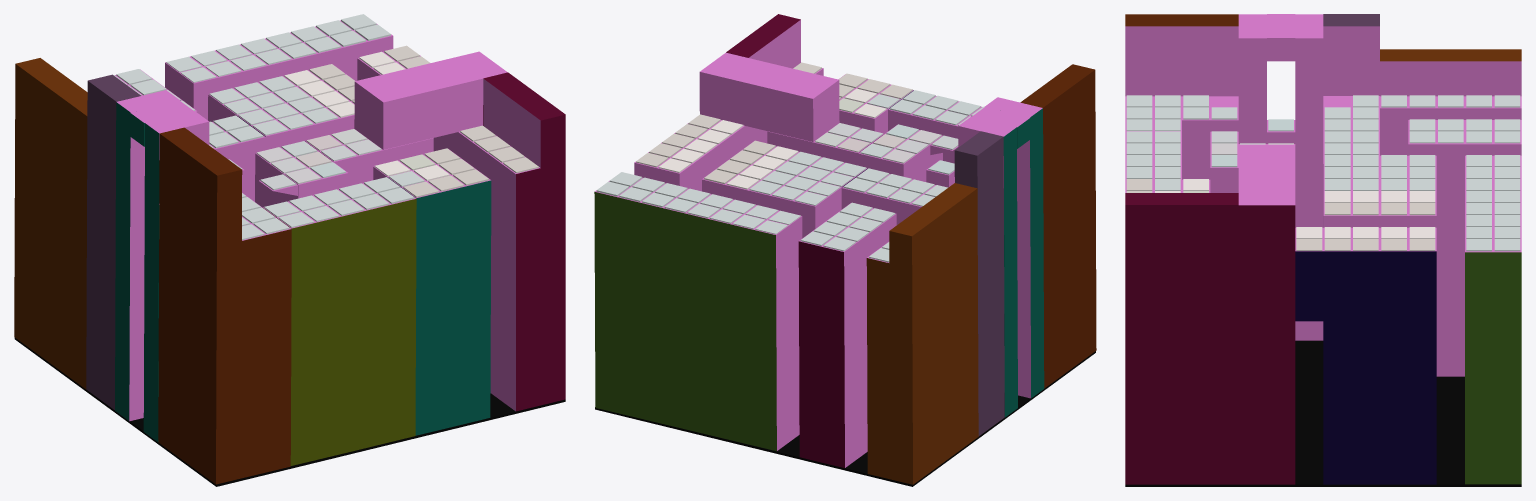
Rendered from Map 1 Concept.fbx.
3 renders of one model, left to right at view 1: azimuth 30°, elevation 25°; view 2: azimuth 150°, elevation 25°; view 3: azimuth 270°, elevation 25°, orthographic. The views are drawn at different scales.
Visible parts, largest first — view 1: Building 05, Building 04, Building 14, Building 11, Building 03, Building 08, Blocked space, Building 07, Building 06, Building 12, Building 09, Floor (+3 smaller); view 2: Building 12, Building 11, Building 05, Building 10, Building 08, Blocked space, Building 06, Building 07, Building 14, Building 09, Building 13, Floor (+5 smaller); view 3: Building 14, Building 13, Building 12, Building 05, Building 11, Floor, Building 10, Building 07, Blocked space, Building 08, Building 06, Building 09 (+4 smaller).
Boxes of the visible parts, bbox=[...] form: Building 05: bbox=[158, 127, 291, 484]; Building 04: bbox=[263, 180, 416, 465]; Building 14: bbox=[433, 72, 565, 411]; Building 11: bbox=[14, 58, 87, 389]; Building 03: bbox=[373, 149, 491, 435]; Building 08: bbox=[86, 74, 265, 409]; Blocked space: bbox=[354, 51, 507, 149]; Building 07: bbox=[115, 90, 180, 421]; Building 06: bbox=[143, 111, 209, 441]; Building 12: bbox=[165, 20, 393, 120]; Building 09: bbox=[208, 69, 354, 149]; Floor: bbox=[14, 337, 565, 486]; Building 12: bbox=[594, 178, 802, 451]; Building 11: bbox=[866, 183, 978, 484]; Building 05: bbox=[1020, 64, 1096, 388]; Building 10: bbox=[798, 203, 896, 467]; Building 08: bbox=[841, 131, 1004, 436]; Blocked space: bbox=[699, 52, 839, 141]; Building 06: bbox=[985, 97, 1044, 398]; Building 07: bbox=[958, 116, 1017, 417]; Building 14: bbox=[726, 14, 823, 147]; Building 09: bbox=[702, 142, 867, 238]; Building 13: bbox=[634, 129, 731, 191]; Floor: bbox=[595, 351, 1095, 486]; Building 14: bbox=[1125, 193, 1295, 484]; Building 13: bbox=[1323, 227, 1436, 484]; Building 12: bbox=[1465, 155, 1521, 484]; Building 05: bbox=[1125, 14, 1238, 179]; Building 11: bbox=[1380, 49, 1521, 155]; Floor: bbox=[1125, 340, 1521, 486]; Building 10: bbox=[1408, 120, 1521, 376]; Building 07: bbox=[1295, 14, 1323, 340]; Blocked space: bbox=[1238, 144, 1295, 251]; Building 08: bbox=[1323, 14, 1379, 155]; Building 06: bbox=[1238, 14, 1266, 143]; Building 09: bbox=[1323, 155, 1436, 227].
Size of the model in its own units: 3090 by 2623 by 3080.
